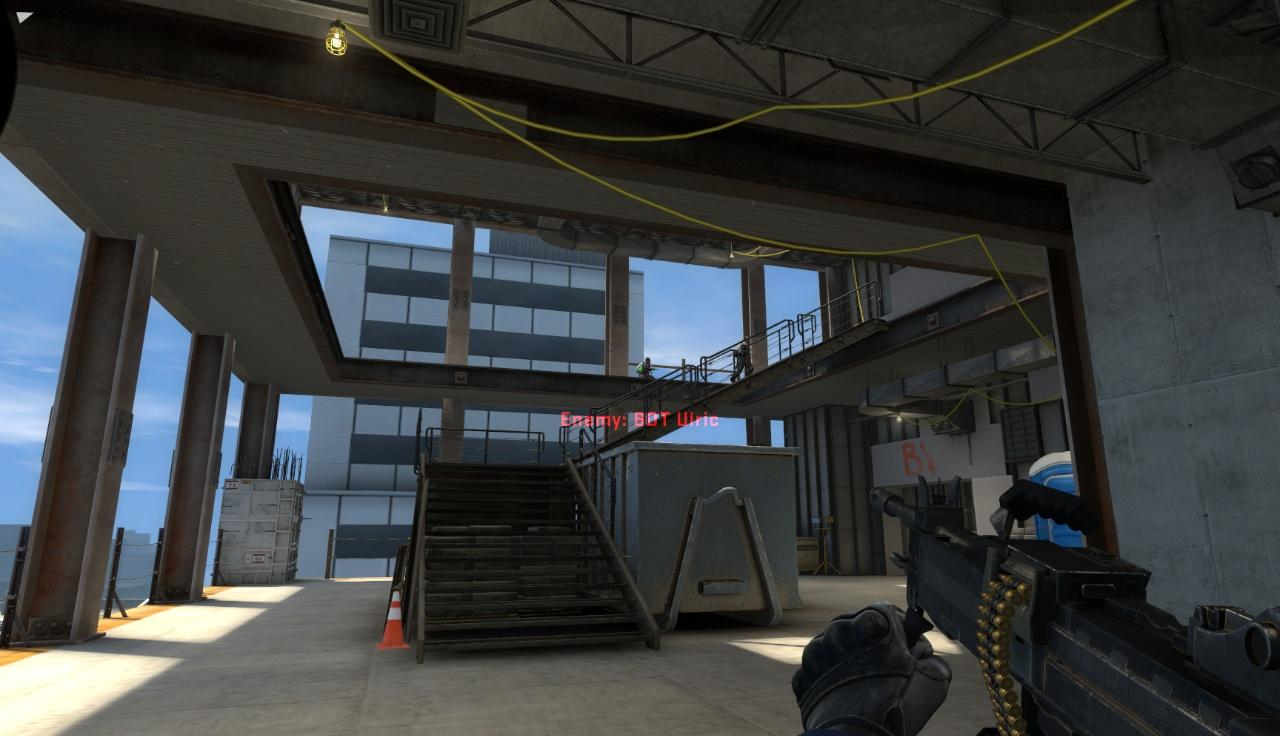rifle: (862, 474, 1280, 736)
tt: (736, 335, 753, 376), (636, 357, 654, 378)
tthead: (645, 356, 651, 364)
